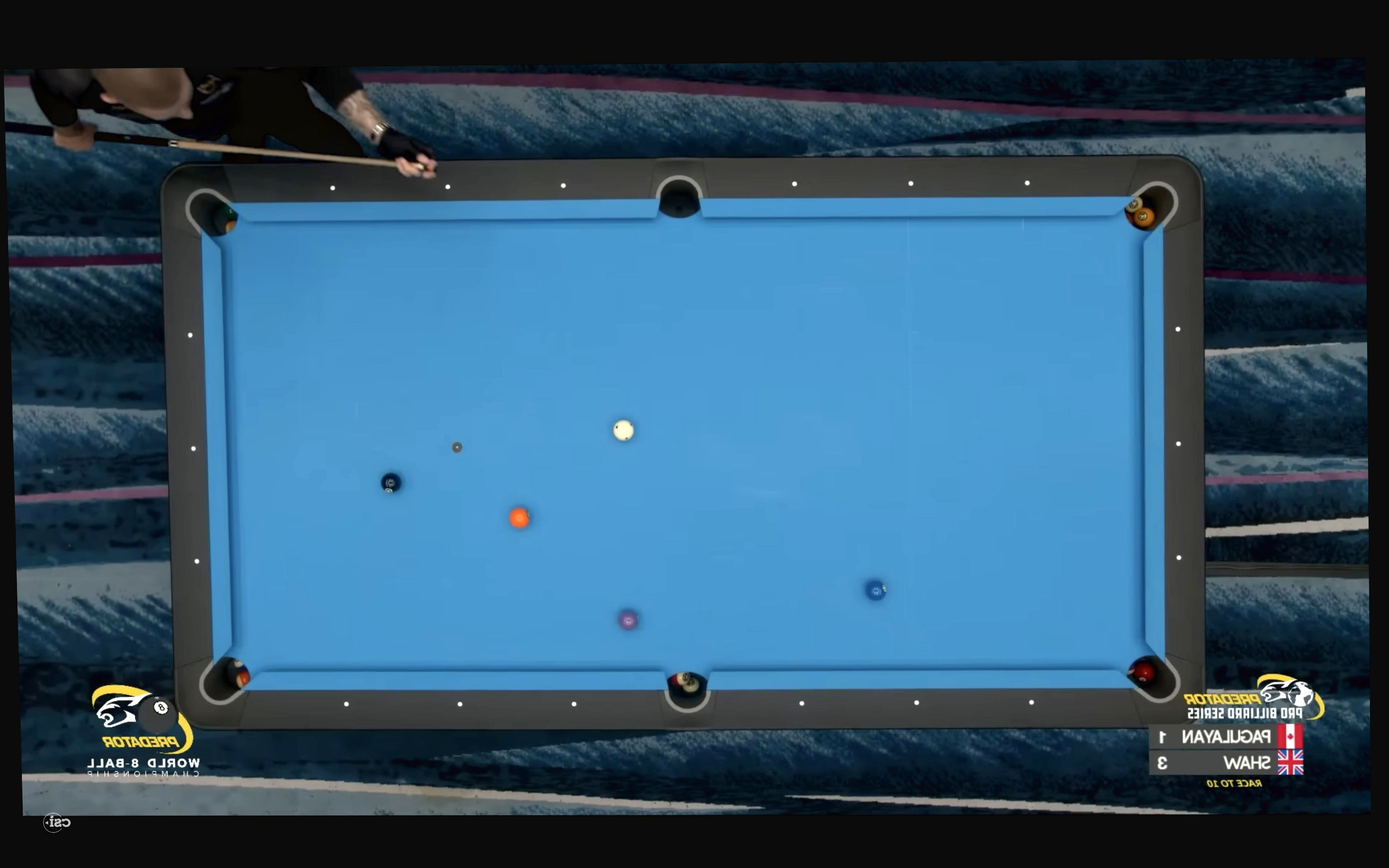Black: (379, 471, 404, 495)
Cue: (612, 419, 637, 442)
Solid: (343, 700, 350, 707), (190, 445, 197, 452), (444, 183, 451, 190), (560, 182, 567, 189), (571, 700, 577, 708), (1175, 326, 1181, 333), (1175, 441, 1182, 447), (1176, 554, 1182, 561), (1028, 699, 1034, 706), (799, 700, 805, 707), (457, 701, 463, 708), (194, 558, 200, 565), (791, 181, 798, 187), (187, 332, 193, 338), (908, 180, 914, 186), (1024, 180, 1030, 186), (913, 700, 920, 705), (330, 185, 335, 191)
Striped: (863, 578, 886, 602), (508, 506, 531, 529), (619, 608, 639, 632)
